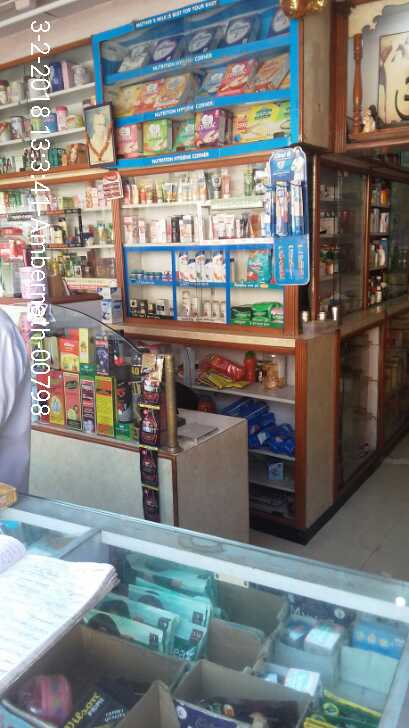beauty: (211, 249, 223, 281), (207, 300, 224, 319), (178, 292, 189, 317), (191, 297, 203, 318), (177, 253, 185, 282), (186, 260, 196, 282), (204, 299, 210, 317)
pharmacy: (287, 183, 310, 233), (241, 246, 271, 284), (128, 263, 168, 284), (262, 186, 275, 237), (275, 183, 286, 233), (243, 307, 269, 325), (231, 308, 253, 325)
